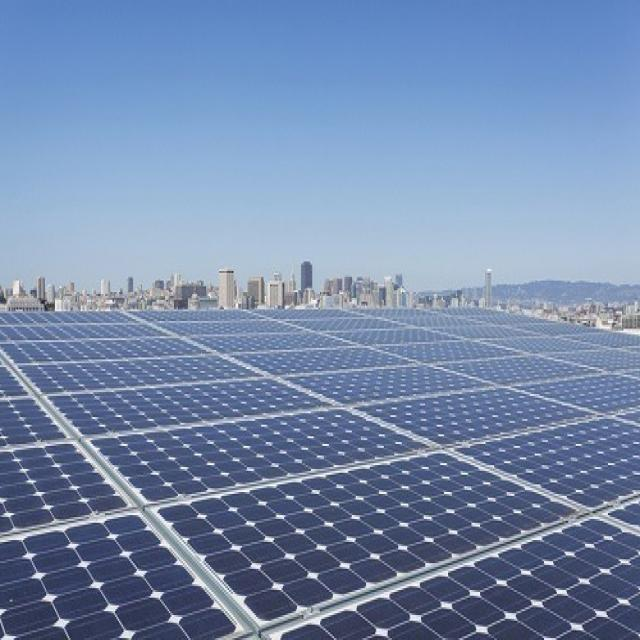clean-solar-panel: (1, 308, 640, 638)
